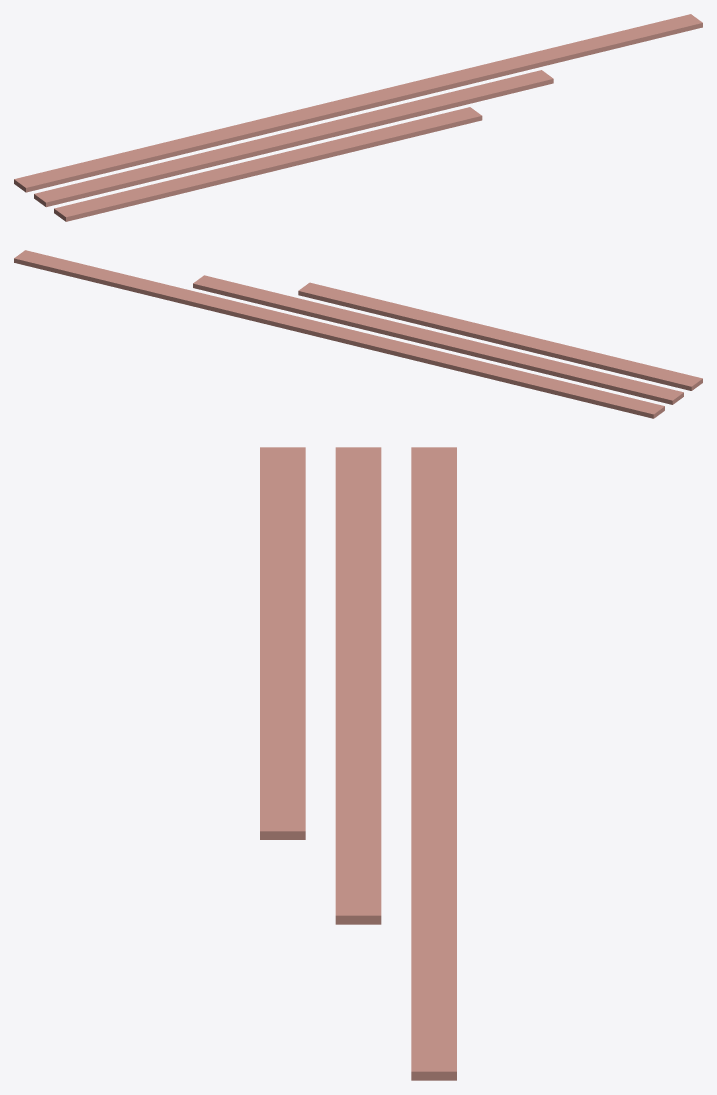
File: deck-board-150x32_carvalho_v0.1.glb
The picture shows the model from 3 angles, top to bottom: view 1: azimuth 30°, elevation 25°; view 2: azimuth 150°, elevation 25°; view 3: azimuth 270°, elevation 25°; orthographic projection. The views are drawn at different scales.
Visible parts, largest first — view 1: IB-225831_deck-board-150x32_carvalho_4880mm, IB-225821_deck-board-150x32_carvalho_3660mm, IB-272448_deck-board-150x32_carvalho_3000mm; view 2: IB-225831_deck-board-150x32_carvalho_4880mm, IB-225821_deck-board-150x32_carvalho_3660mm, IB-272448_deck-board-150x32_carvalho_3000mm; view 3: IB-225831_deck-board-150x32_carvalho_4880mm, IB-225821_deck-board-150x32_carvalho_3660mm, IB-272448_deck-board-150x32_carvalho_3000mm.
Boxes of the visible parts, x1,y1,x2,y2 form: IB-225831_deck-board-150x32_carvalho_4880mm: (14, 14, 702, 192); IB-225821_deck-board-150x32_carvalho_3660mm: (34, 70, 553, 207); IB-272448_deck-board-150x32_carvalho_3000mm: (54, 107, 482, 221); IB-225831_deck-board-150x32_carvalho_4880mm: (14, 250, 664, 418); IB-225821_deck-board-150x32_carvalho_3660mm: (193, 275, 683, 404); IB-272448_deck-board-150x32_carvalho_3000mm: (298, 282, 702, 390); IB-225831_deck-board-150x32_carvalho_4880mm: (411, 447, 456, 1080); IB-225821_deck-board-150x32_carvalho_3660mm: (335, 447, 381, 924); IB-272448_deck-board-150x32_carvalho_3000mm: (260, 447, 305, 839).
Size of the model in its own units: 4.88 by 0.032 by 0.65.
